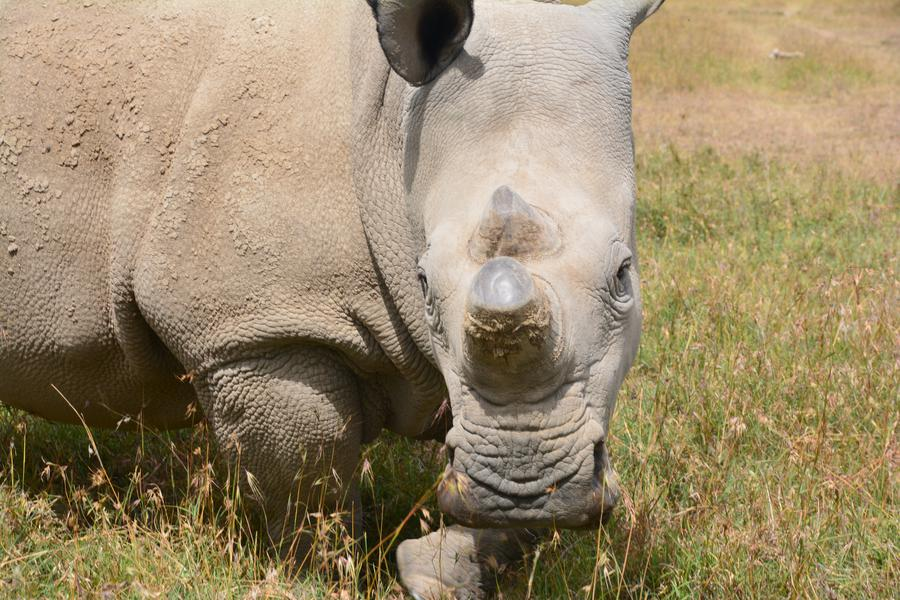rhino: (15, 3, 641, 563)
